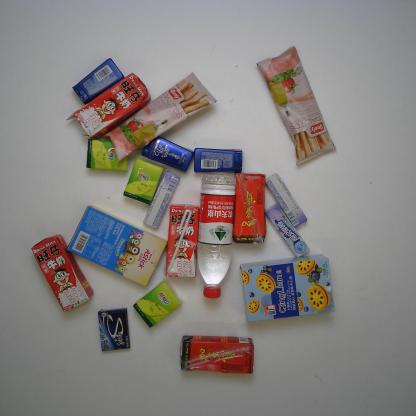Candy: (263, 202, 311, 259), (264, 172, 309, 229), (142, 169, 182, 230)
Dessert: (101, 70, 219, 164), (255, 44, 339, 170), (66, 204, 168, 288), (238, 253, 338, 324)
Drink: (195, 173, 237, 301), (179, 334, 256, 375), (232, 171, 269, 247)
Gum: (97, 306, 131, 353)
Milk: (64, 71, 152, 140), (30, 233, 94, 313), (164, 202, 200, 279)
Personal Hygiene: (70, 56, 126, 107), (140, 134, 194, 174), (193, 148, 244, 175)
Tissue: (131, 278, 185, 330), (122, 156, 166, 207), (84, 136, 130, 173)
